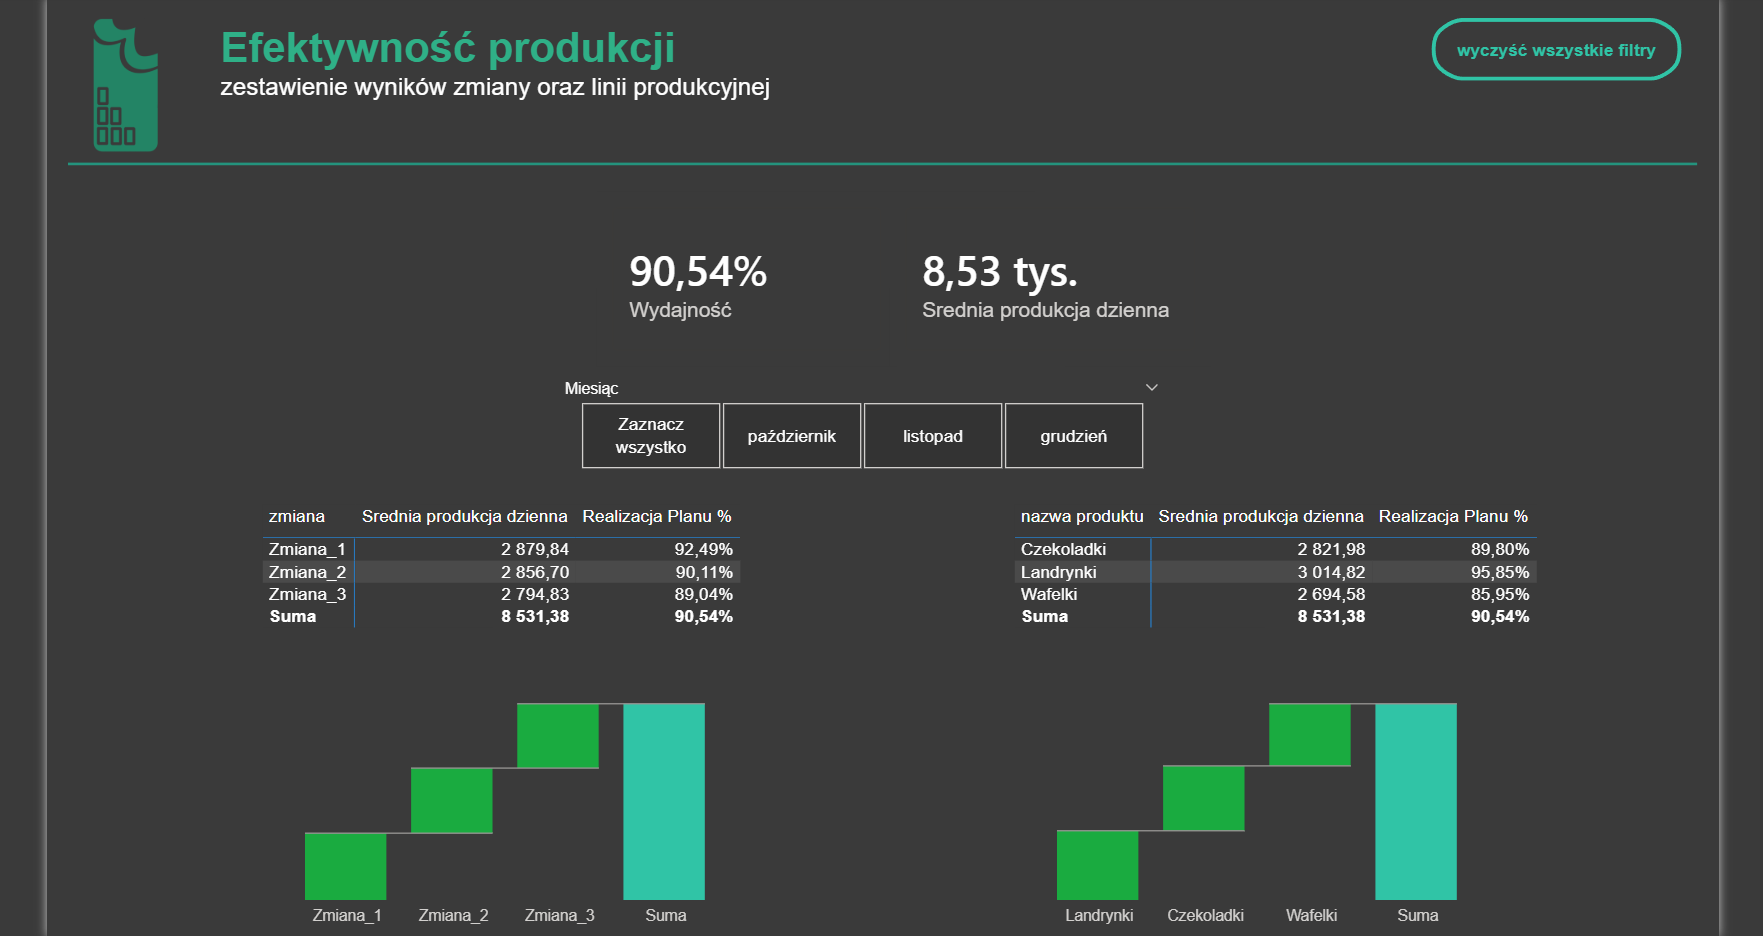

This screenshot's page, from the dashboard's own definition file:
{"tool":"powerbi","page":{"name":"Efektywność produkcji","canvas":[1280,720],"ordinal":2},"visuals":[{"type":"cardVisual","fields":{"Data":["Miary.Realizacja Planu %"]},"box":[416,144,240,144],"z":0},{"type":"cardVisual","fields":{"Data":["Miary.Srednia produkcja"]},"box":[640,144,256,144],"z":1000},{"type":"pivotTable","fields":{"Rows":["produkcja.zmiana"],"Values":["Miary.Srednia produkcja dzienna","Miary.Realizacja Planu %"]},"box":[160,384,384,144],"z":2000},{"type":"pivotTable","fields":{"Values":["Miary.Srednia produkcja dzienna","Miary.Realizacja Planu %"],"Rows":["produkcja.nazwa produktu"]},"box":[736,384,416,144],"z":3000},{"type":"image","box":[16,16,88,104],"z":4000},{"type":"textbox","box":[128,16,1152,96],"z":5000},{"type":"actionButton","box":[1056,16,200,48],"z":6000},{"type":"shape","box":[16,112,1248,32],"z":7000},{"type":"slicer","fields":{"Values":["Kalendarz.Date.Odmiana.Hierarchia dat.Miesiąc"]},"box":[384,288,480,80],"z":8000},{"type":"waterfallChart","fields":{"Category":["produkcja.zmiana"],"Y":["Miary.Realizacja Planu %"]},"box":[160,512,384,208],"z":9000},{"type":"waterfallChart","fields":{"Y":["Miary.Realizacja Planu %"],"Category":["produkcja.nazwa produktu"]},"box":[736,512,384,208],"z":10000}]}

Visuals, with their boxes on the page's 1280x720 design canvas (x1, y1, x2, y2). These are canvas units, not pixel positions in the 1763x936 screenshot, which may show the page scaled, cropped or inside an application window:
cardVisual - Miary.Realizacja Planu %: 416,144,656,288
cardVisual - Miary.Srednia produkcja: 640,144,896,288
pivotTable - produkcja.zmiana x Miary.Srednia produkcja dzienna: 160,384,544,528
pivotTable - Miary.Srednia produkcja dzienna x Miary.Realizacja Planu %: 736,384,1152,528
image: 16,16,104,120
textbox: 128,16,1280,112
actionButton: 1056,16,1256,64
shape: 16,112,1264,144
slicer - Kalendarz.Date.Odmiana.Hierarchia dat.Miesiąc: 384,288,864,368
waterfallChart - produkcja.zmiana x Miary.Realizacja Planu %: 160,512,544,720
waterfallChart - Miary.Realizacja Planu % x produkcja.nazwa produktu: 736,512,1120,720
